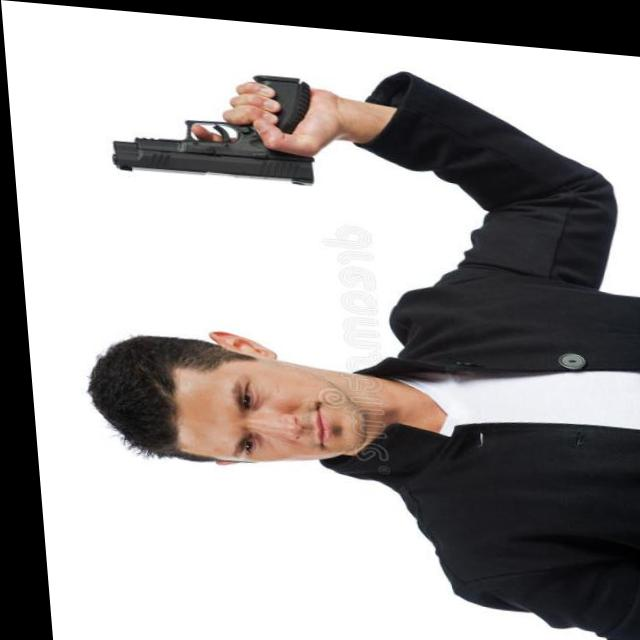handgun: (102, 57, 310, 181)
